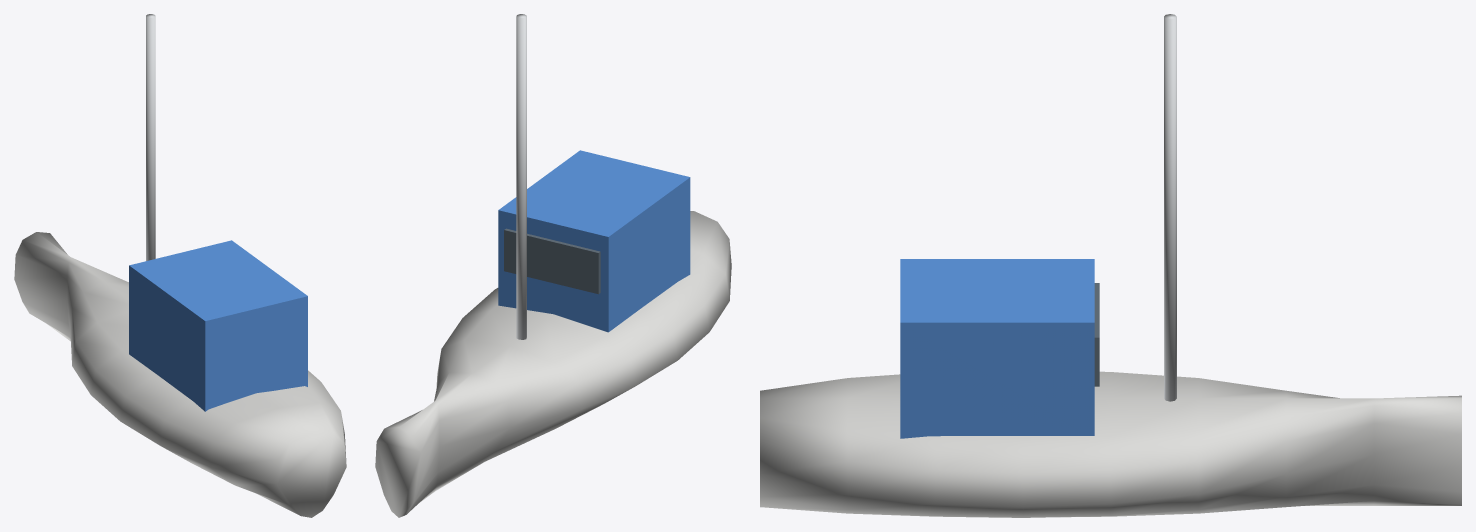
Rendered from boat.glb.
3 views of the same model, side by side, from view 1: azimuth 30°, elevation 25°; view 2: azimuth 150°, elevation 25°; view 3: azimuth 270°, elevation 25° (orthographic). The views are drawn at different scales.
Visible parts, largest first — view 1: Boat; view 2: Boat; view 3: Boat.
Part boxes in pixels (x1,y1,x2,y2): Boat: (14, 14, 346, 517); Boat: (375, 14, 731, 517); Boat: (760, 14, 1461, 517).
Bounding box in the file's own units: 2.4 × 5 × 6.5.
